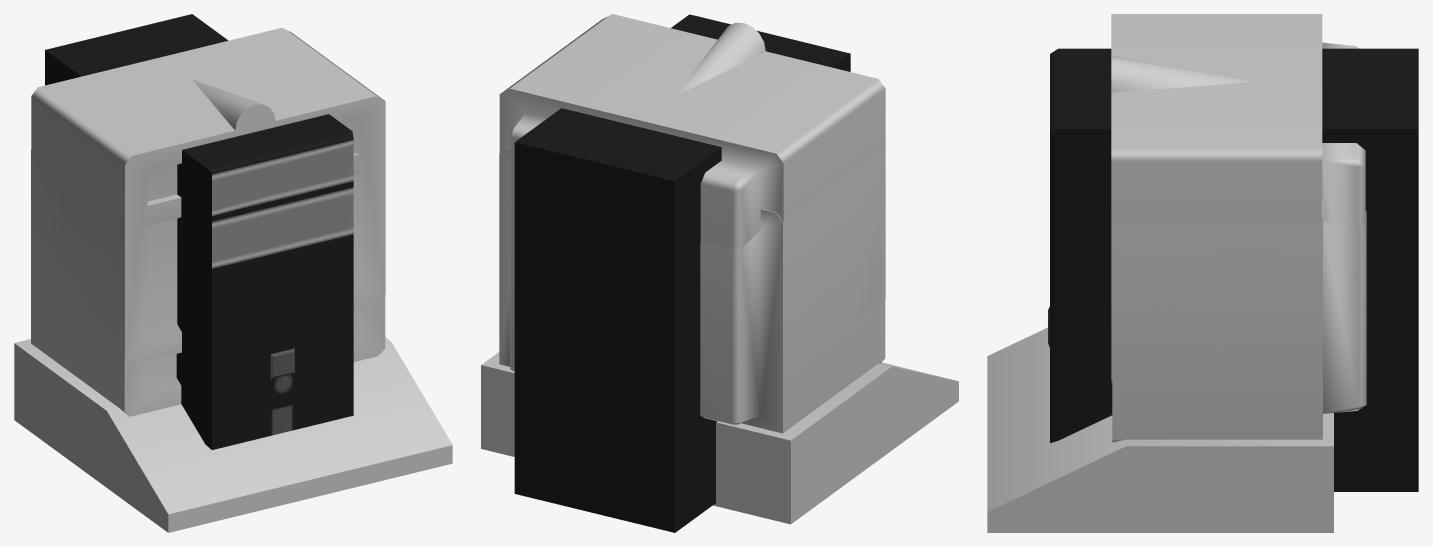
The model's file is Pcs_001.fbx.
The picture shows the model from 3 angles, left to right: view 1: azimuth 30°, elevation 25°; view 2: azimuth 150°, elevation 25°; view 3: azimuth 270°, elevation 25°; orthographic projection. The views are drawn at different scales.
Visible parts, largest first — view 1: VideoPhone_001, cpu_01, PC_Screen_01, cpu_02; view 2: cpu_01, VideoPhone_001, PC_Screen_01; view 3: VideoPhone_001, PC_Screen_01, cpu_01, cpu_02.
Boxes of the visible parts, x1,y1,x2,y2 form: VideoPhone_001: (14, 28, 452, 532); cpu_01: (45, 14, 353, 449); PC_Screen_01: (31, 150, 385, 416); cpu_02: (212, 140, 353, 449); cpu_01: (514, 14, 850, 532); VideoPhone_001: (481, 14, 958, 524); PC_Screen_01: (499, 148, 885, 433); VideoPhone_001: (987, 14, 1365, 532); PC_Screen_01: (1112, 201, 1366, 442); cpu_01: (1050, 48, 1418, 491); cpu_02: (1048, 130, 1058, 442).
Size of the model in its own units: 1.93 by 2.29 by 2.26.
